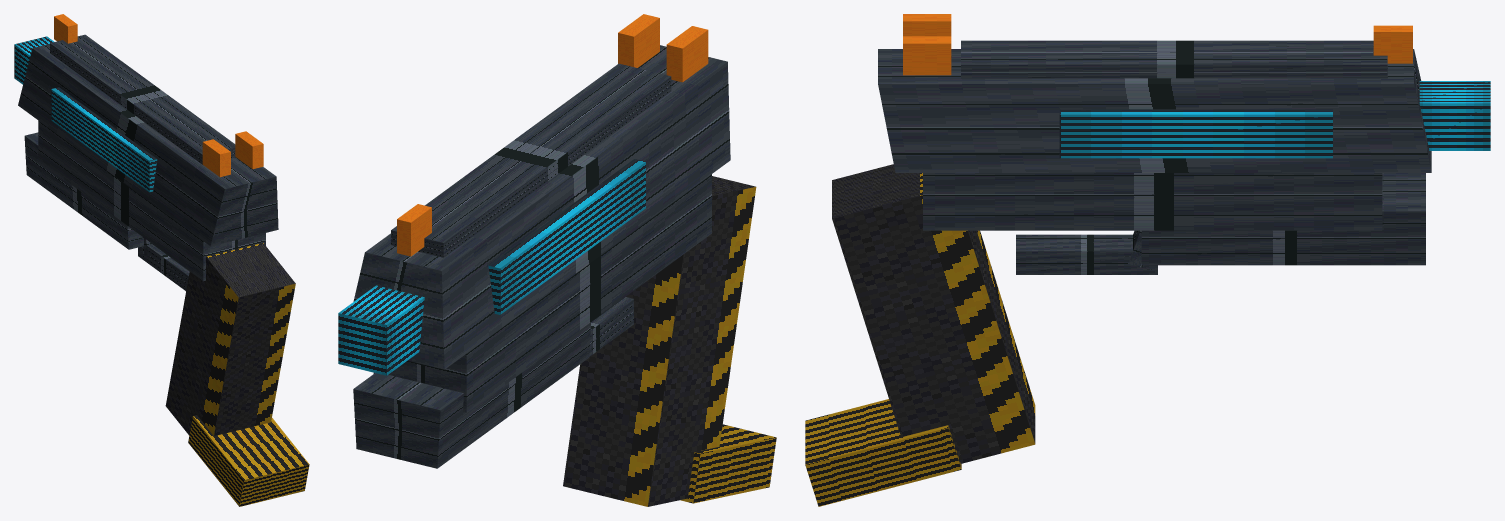
File: pistol_scifi.obj
The picture shows the model from 3 angles, left to right: view 1: azimuth 30°, elevation 25°; view 2: azimuth 150°, elevation 25°; view 3: azimuth 270°, elevation 25°; orthographic projection. The views are drawn at different scales.
Parts seen in each view (by area): view 1: PS2_Pistola_SciFi; view 2: PS2_Pistola_SciFi; view 3: PS2_Pistola_SciFi.
Part boxes in pixels (x1,y1,x2,y2): PS2_Pistola_SciFi: (14,14,309,506); PS2_Pistola_SciFi: (338,14,776,506); PS2_Pistola_SciFi: (805,14,1490,506).
Size of the model in its own units: 0.053 by 0.23 by 0.3132.
1 material, 1 textured.
